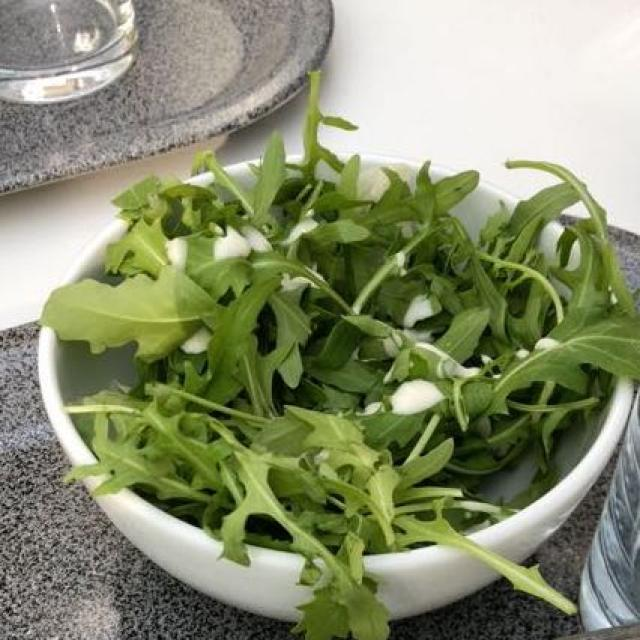Green Salad: (85, 162, 619, 540)
